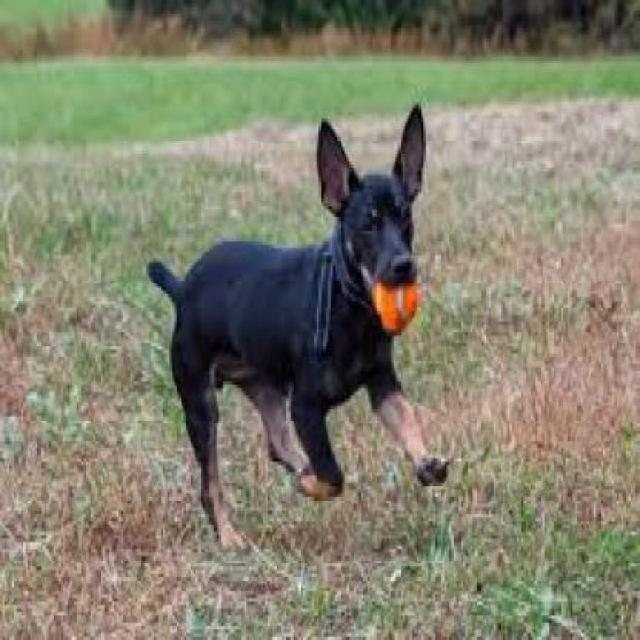animals: (99, 51, 487, 543)
